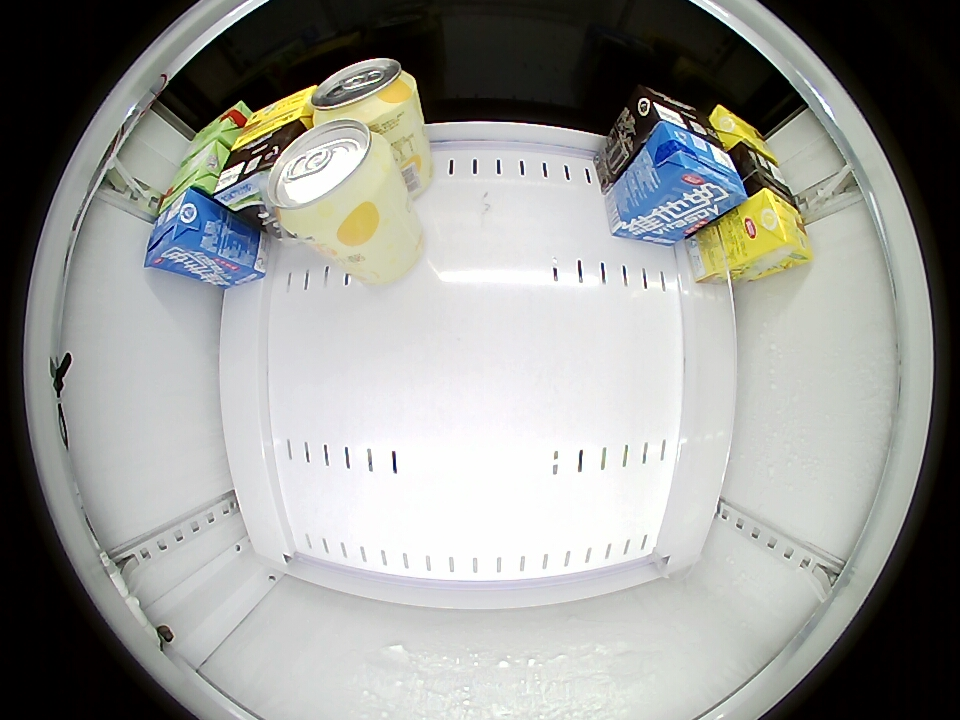mangguoxiaolao: (266, 116, 394, 240), (310, 58, 417, 126)
wanglaoji: (161, 140, 229, 208), (182, 101, 250, 163)
weitanai: (639, 123, 749, 214), (143, 189, 221, 273)
weitanai2: (214, 122, 297, 212), (625, 87, 719, 146), (732, 142, 797, 205)
weitaningmeng: (741, 188, 812, 270), (234, 86, 316, 148), (710, 104, 779, 163)
